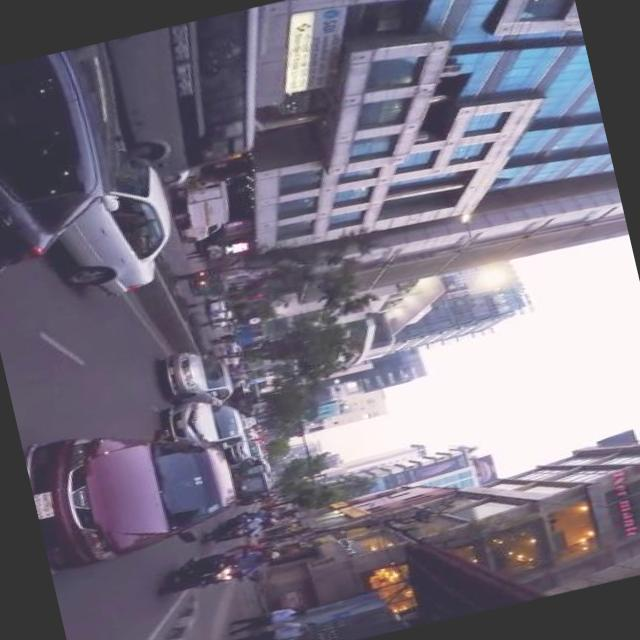bus: (111, 5, 293, 178)
car: (28, 402, 246, 570), (0, 45, 132, 283), (42, 140, 185, 302), (168, 390, 250, 457), (165, 340, 238, 410), (232, 436, 266, 461), (212, 296, 237, 326)
motorcycle: (158, 545, 259, 598), (204, 516, 259, 546), (194, 266, 230, 298), (220, 508, 268, 530), (238, 469, 272, 497), (234, 454, 272, 476)
truck: (171, 175, 238, 242)
